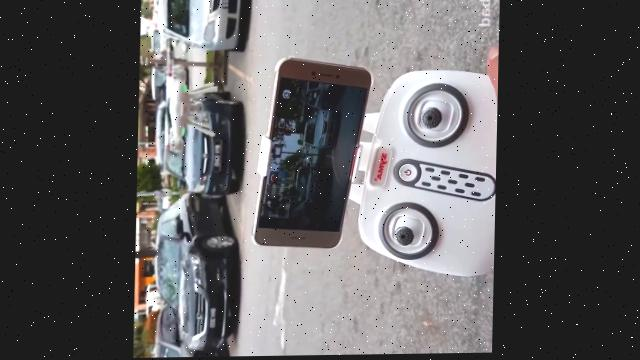drone: (160, 48, 216, 175)
